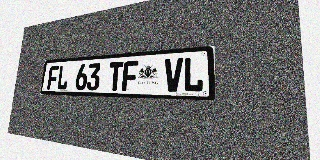3: (86, 63, 101, 90)
6: (75, 64, 89, 90)
F: (122, 60, 138, 91), (47, 66, 59, 90)
L: (183, 56, 204, 92), (56, 65, 69, 90)
T: (108, 61, 123, 91)
V: (164, 58, 183, 92)
